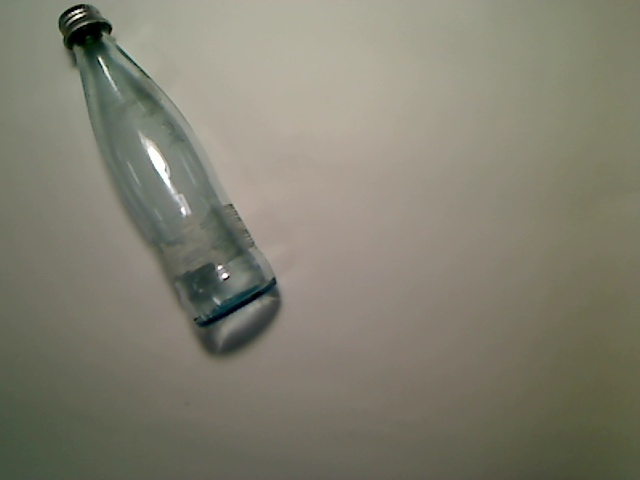bottle: (58, 4, 277, 328)
